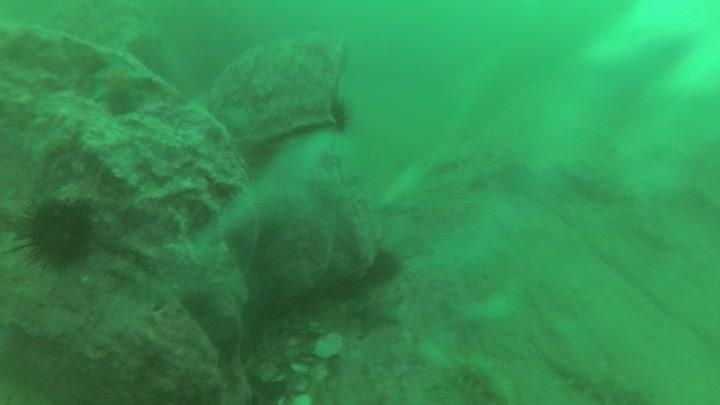echinus: (15, 193, 98, 271), (324, 93, 357, 137), (366, 247, 404, 284)
holothurian: (552, 355, 656, 405), (444, 358, 516, 405), (425, 152, 469, 178)
starfish: (89, 53, 148, 117), (347, 282, 407, 335)
